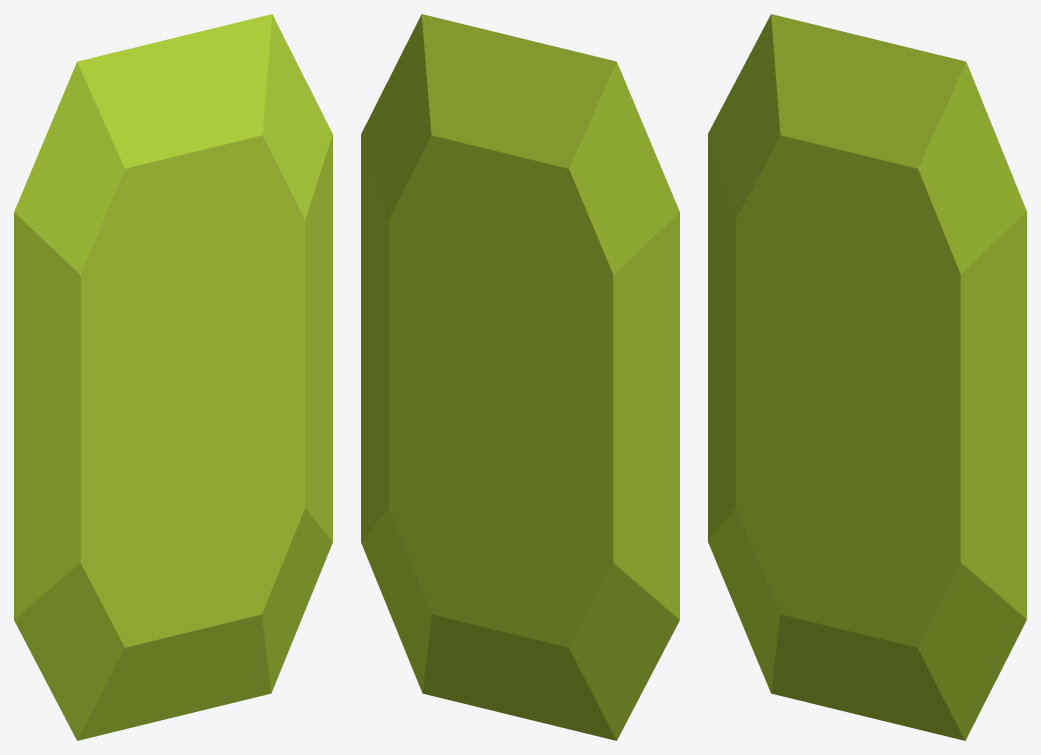
File: Krysztaek_1.fbx
The picture shows the model from 3 angles, left to right: view 1: azimuth 30°, elevation 25°; view 2: azimuth 150°, elevation 25°; view 3: azimuth 330°, elevation 25°; orthographic projection.
Parts seen in each view (by area): view 1: Cube; view 2: Cube; view 3: Cube.
Part boxes in pixels (x1,y1,x2,y2): Cube: (14,14,332,740); Cube: (361,14,679,740); Cube: (708,14,1026,740).
Bounding box in the file's own units: 97.64 × 199 × 20.44.
